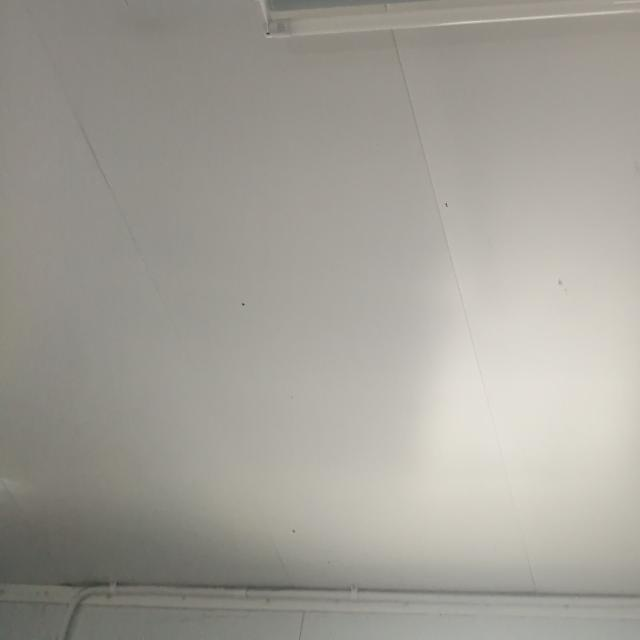fluorescent tube: (243, 0, 640, 84)
